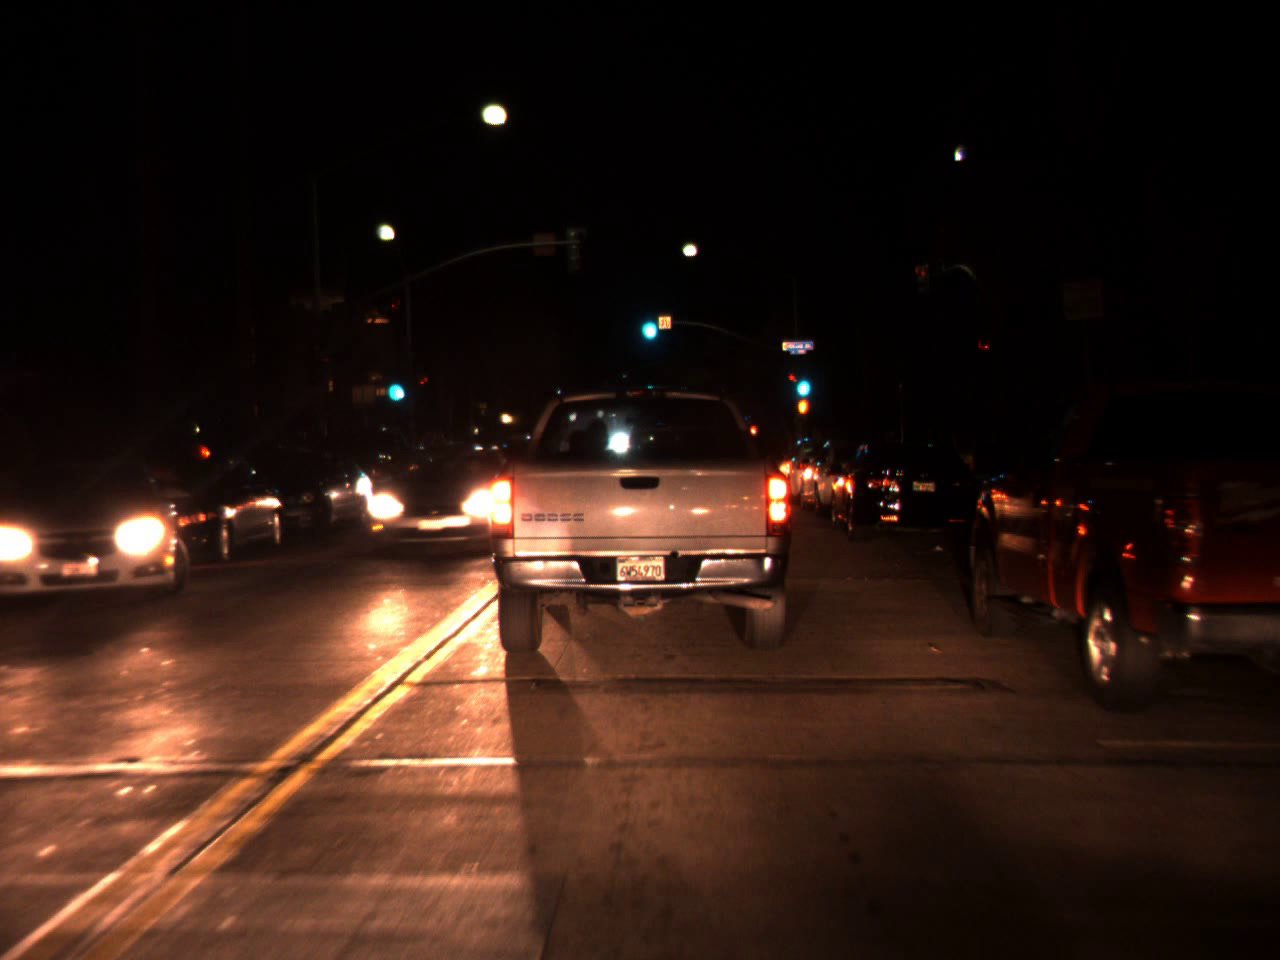go: (636, 301, 659, 345), (384, 362, 405, 407), (792, 361, 813, 403)
